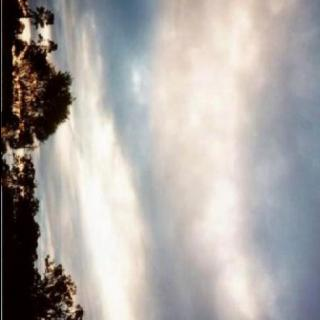Stratocumulus: (83, 0, 320, 320)
